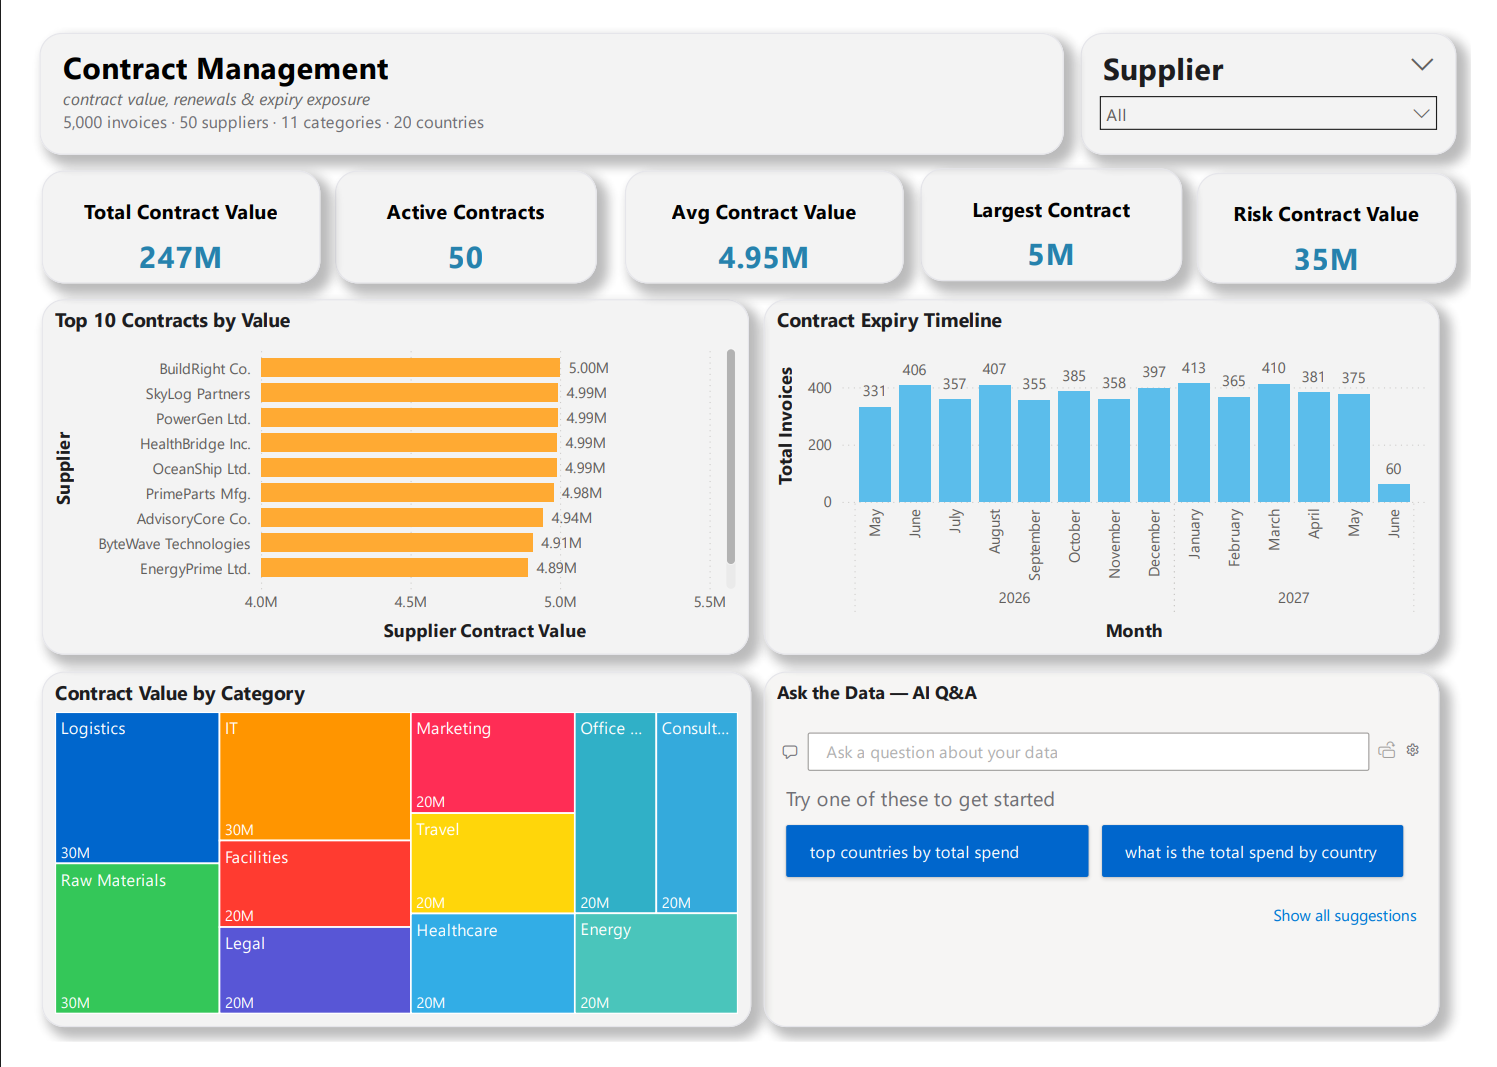

What the dashboard file says about the page in this screenshot:
{"tool":"powerbi","page":{"name":"Contract Management","canvas":[1280,900],"ordinal":4},"visuals":[{"type":"slicer","fields":{"Values":["procurement_data.Supplier"]},"box":[934.3,5.7,332.9,108.6],"z":0},{"type":"textbox","box":[11.4,5.7,907.1,108.6],"z":1000},{"type":"cardVisual","title":"Total Spend","fields":{"Data":["procurement_data.Active Contracts"]},"box":[273.3,128.3,231.7,100],"z":2000},{"type":"cardVisual","title":"Total Spend","fields":{"Data":["procurement_data.Total Contract Value"]},"box":[13.3,128.3,246.7,100],"z":3000},{"type":"clusteredBarChart","title":"Top 10 Contracts by Value","fields":{"Category":["procurement_data.Supplier"],"Y":["procurement_data.Supplier Contract Value"]},"box":[13.3,241.7,626.7,315],"z":4000},{"type":"treemap","title":"Contract Value by Category","fields":{"Group":["procurement_data.Category"],"Values":["procurement_data.Total Contract Value"]},"box":[13.3,571.7,628.3,315],"z":5000},{"type":"cardVisual","title":"Total Spend","fields":{"Data":["procurement_data.Largest Contract"]},"box":[792,126,232,100],"z":6000},{"type":"cardVisual","title":"Total Spend","fields":{"Data":["procurement_data.Avg Contract Value"]},"box":[530,128.3,246.7,100],"z":7000},{"type":"cardVisual","title":"Total Spend","fields":{"Data":["procurement_data.At-Risk Contract Value"]},"box":[1036.7,130,230,98.3],"z":8000},{"type":"clusteredColumnChart","title":"Contract Expiry Timeline","fields":{"Category":["procurement_data.Contract_Expiry_Date.Variation.Date Hierarchy.Year","procurement_data.Contract_Expiry_Date.Variation.Date Hierarchy.Month"],"Y":["procurement_data.Total Invoices"]},"box":[653.3,241.7,598.3,315],"z":9000},{"type":"qnaVisual","title":"Ask the Data — AI Q&A","box":[653.3,571.7,598.3,315],"z":10000}]}

Visuals, with their boxes in screenshot pixels (x1, y1, x2, y2), scaled from the page's 1280x900 canvas onto the 1497x1067 screenshot:
slicer - procurement_data.Supplier: crop(1093, 7, 1482, 136)
textbox: crop(13, 7, 1074, 136)
"Total Spend" cardVisual: crop(320, 152, 591, 271)
"Total Spend" cardVisual: crop(16, 152, 304, 271)
"Top 10 Contracts by Value" clusteredBarChart: crop(16, 287, 748, 660)
"Contract Value by Category" treemap: crop(16, 678, 750, 1051)
"Total Spend" cardVisual: crop(926, 149, 1198, 268)
"Total Spend" cardVisual: crop(620, 152, 908, 271)
"Total Spend" cardVisual: crop(1212, 154, 1481, 271)
"Contract Expiry Timeline" clusteredColumnChart: crop(764, 287, 1464, 660)
"Ask the Data — AI Q&A" qnaVisual: crop(764, 678, 1464, 1051)
